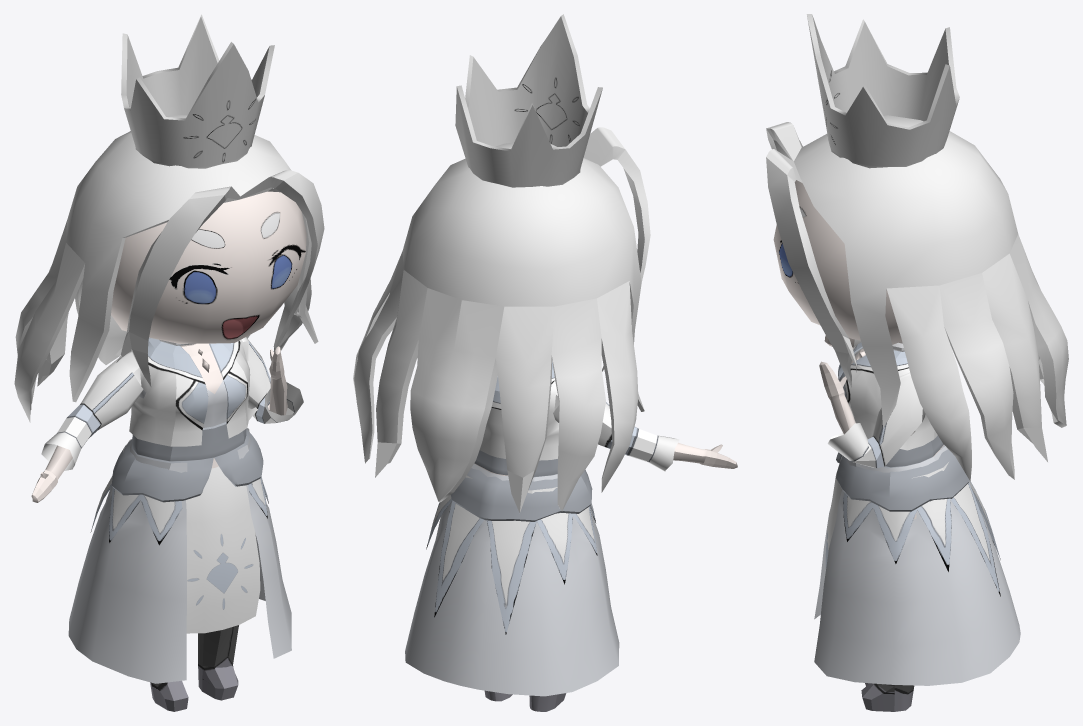
File: クイーンボーン無し.fbx
3 views of the same model, side by side, from view 1: azimuth 30°, elevation 25°; view 2: azimuth 150°, elevation 25°; view 3: azimuth 270°, elevation 25° (orthographic). The views are drawn at different scales.
Parts seen in each view (by area): view 1: pCube4; view 2: pCube4; view 3: pCube4.
Boxes of the visible parts, box(x1,y1,x2,y2) form: pCube4: box(14, 14, 324, 711); pCube4: box(353, 14, 737, 711); pCube4: box(766, 14, 1068, 711).
Bounding box in the file's own units: 5.7 × 11.09 × 4.47.
9 materials, 9 textured.
